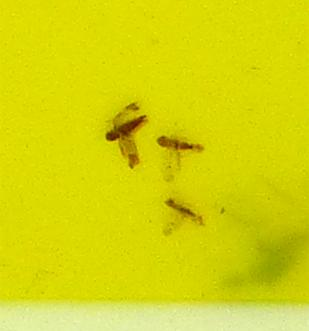Hemiptera: (100, 100, 150, 166), (160, 197, 209, 231), (154, 132, 204, 160)
